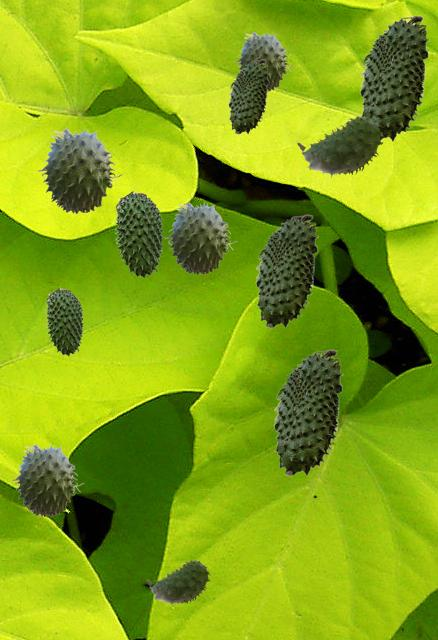guyabano: (273, 349, 342, 475), (359, 15, 428, 141), (37, 127, 122, 213), (255, 214, 317, 327), (11, 443, 83, 516), (164, 201, 236, 274), (297, 116, 382, 177), (114, 190, 163, 277), (234, 31, 293, 91), (228, 59, 268, 133), (146, 560, 209, 605), (45, 287, 83, 355)
